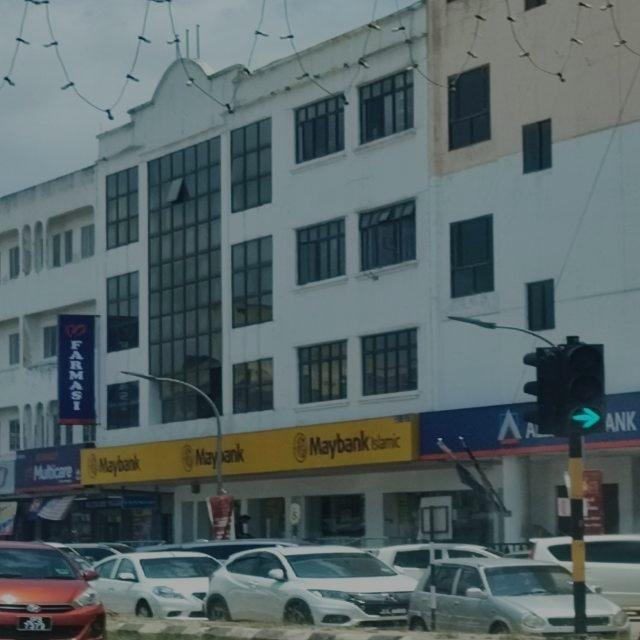Green: (560, 344, 607, 434)
